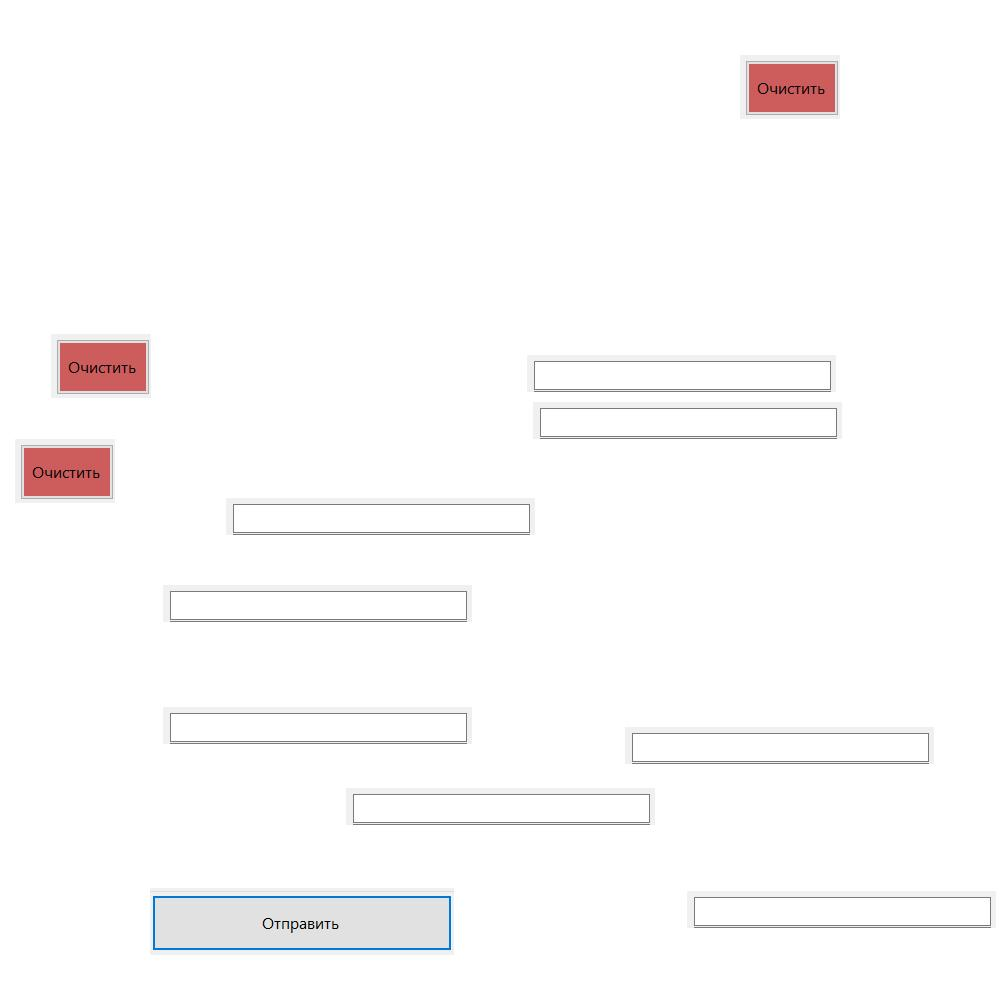Button: (150, 888, 454, 955), (740, 55, 840, 119), (15, 439, 115, 503), (51, 334, 151, 398)
EditText-: (346, 788, 655, 825), (687, 891, 996, 928), (625, 727, 934, 764), (163, 707, 472, 744), (226, 498, 535, 535), (533, 402, 842, 439), (163, 585, 472, 622), (527, 355, 836, 392)
